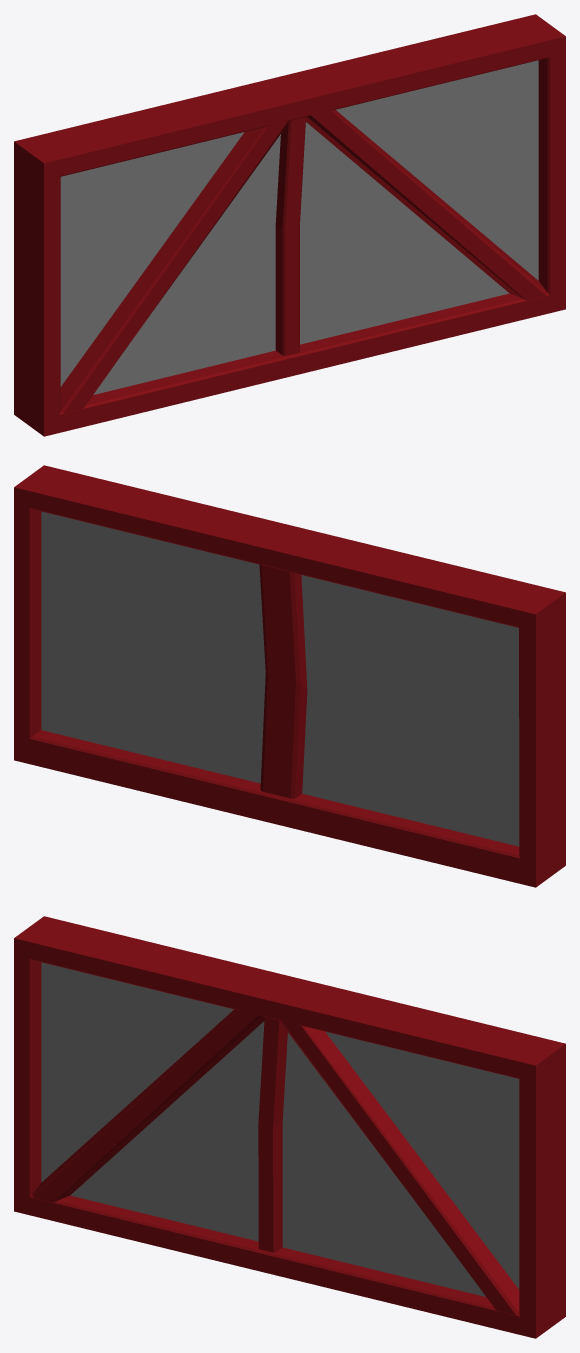
File: SM_MH_01_Wood_01_Wall_Half_H_01.fbx
3 views of the same model, one above another, from view 1: azimuth 30°, elevation 25°; view 2: azimuth 150°, elevation 25°; view 3: azimuth 330°, elevation 25° (orthographic).
Visible parts, largest first — view 1: SM_MH_01_Wood_01_Wall_Half_H_01_LOD0; view 2: SM_MH_01_Wood_01_Wall_Half_H_01_LOD0; view 3: SM_MH_01_Wood_01_Wall_Half_H_01_LOD0.
Boxes of the visible parts, x1,y1,x2,y2 form: SM_MH_01_Wood_01_Wall_Half_H_01_LOD0: [14, 14, 565, 436]; SM_MH_01_Wood_01_Wall_Half_H_01_LOD0: [14, 465, 565, 887]; SM_MH_01_Wood_01_Wall_Half_H_01_LOD0: [14, 916, 565, 1338].
Size of what is drawn, in the model's own units: 300 by 150 by 30.
